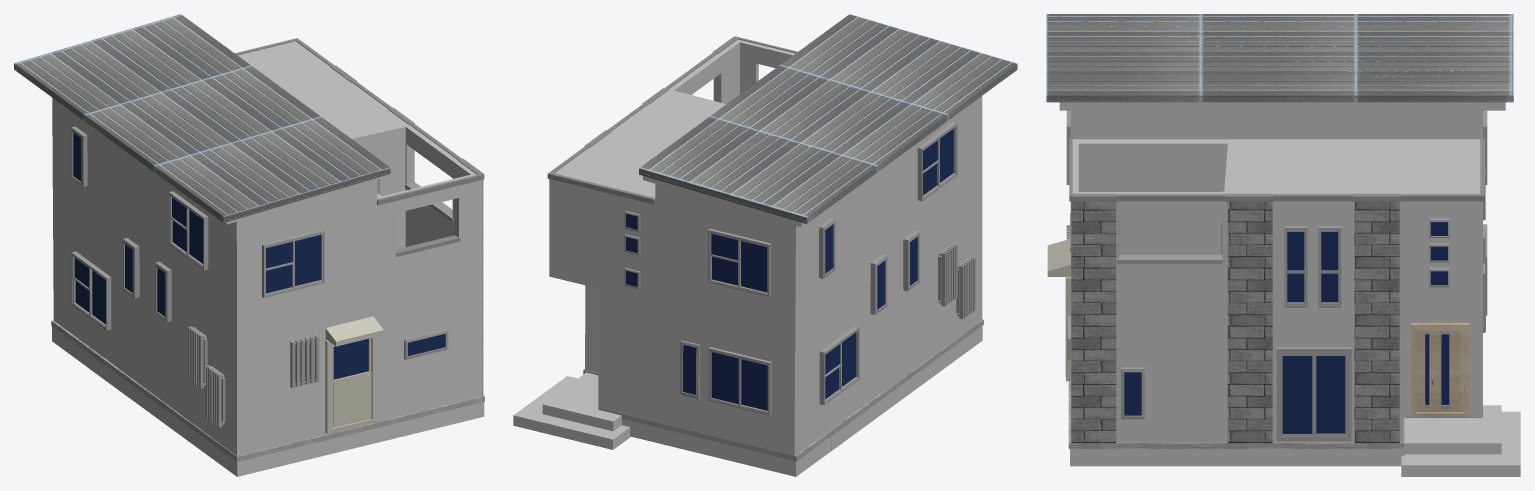
File: house008_middle.fbx
3 renders of one model, left to right at view 1: azimuth 30°, elevation 25°; view 2: azimuth 150°, elevation 25°; view 3: azimuth 270°, elevation 25°, orthographic. The views are drawn at different scales.
Visible parts, largest first — view 1: pPlane2; view 2: pPlane2; view 3: pPlane2.
Part boxes in pixels (x1=…): pPlane2: x1=14, y1=14, x2=484, y2=476; pPlane2: x1=513, y1=14, x2=1017, y2=476; pPlane2: x1=1046, y1=14, x2=1520, y2=476.
Size of the model in its own units: 15.37 by 14.43 by 19.64.
